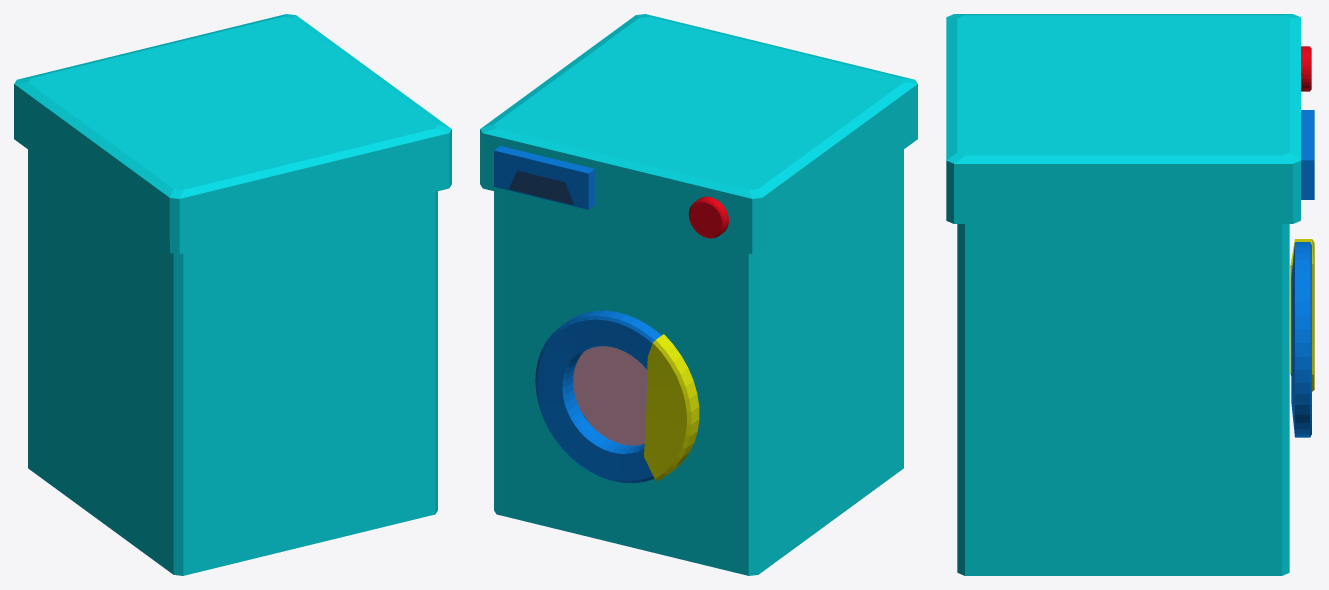
Rendered from wahsingMachine.fbx.
3 views of the same model, side by side, from view 1: azimuth 30°, elevation 25°; view 2: azimuth 150°, elevation 25°; view 3: azimuth 270°, elevation 25° (orthographic). The views are drawn at different scales.
Parts seen in each view (by area): view 1: WashingMachine; view 2: WashingMachine; view 3: WashingMachine.
Boxes of the visible parts, x1,y1,x2,y2 form: WashingMachine: (14,14,451,575); WashingMachine: (480,14,917,575); WashingMachine: (946,14,1314,575).
Bounding box in the file's own units: 213 × 279 × 222.
